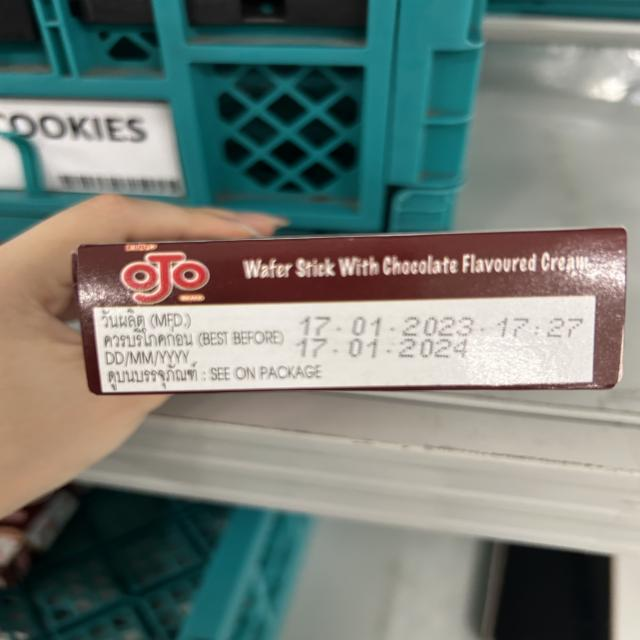object_name: (79, 245, 625, 397)
